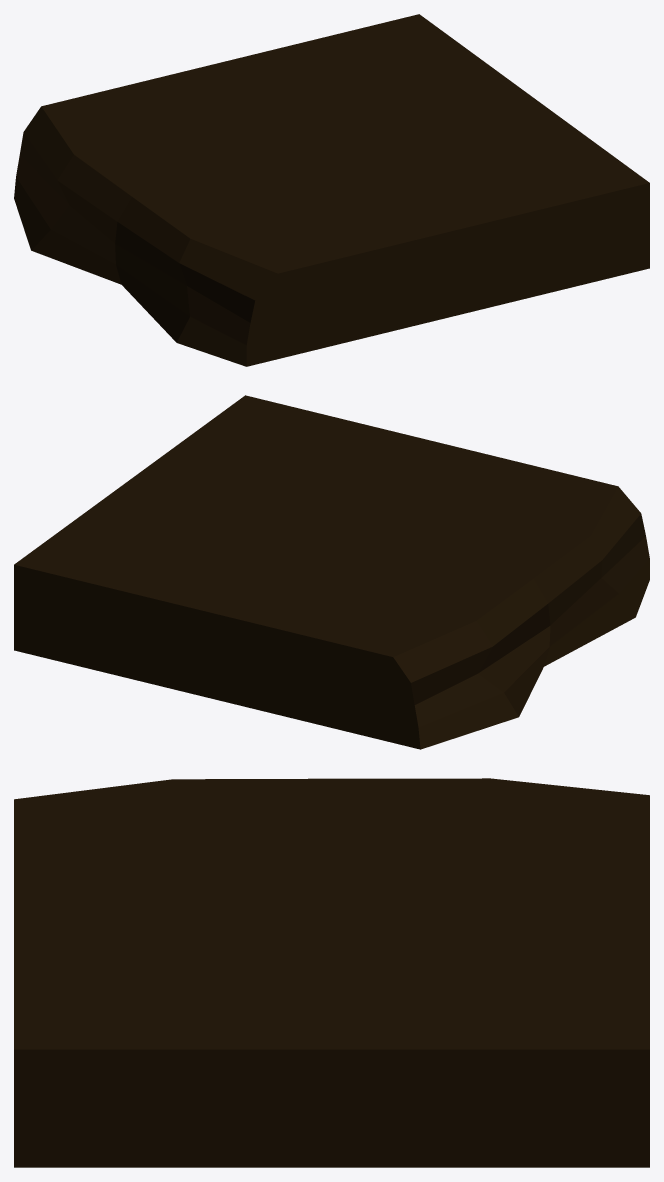
Rendered from floor_arena.fbx.
3 renders of one model, top to bottom at view 1: azimuth 30°, elevation 25°; view 2: azimuth 150°, elevation 25°; view 3: azimuth 270°, elevation 25°, orthographic. The views are drawn at different scales.
Visible parts, largest first — view 1: floor_arena; view 2: floor_arena; view 3: floor_arena.
Boxes of the visible parts, x1=… form: floor_arena: x1=14, y1=14, x2=649, y2=366; floor_arena: x1=14, y1=395, x2=649, y2=749; floor_arena: x1=14, y1=778, x2=649, y2=1167.
Bounding box in the file's own units: 9822 × 1800 × 8800.
